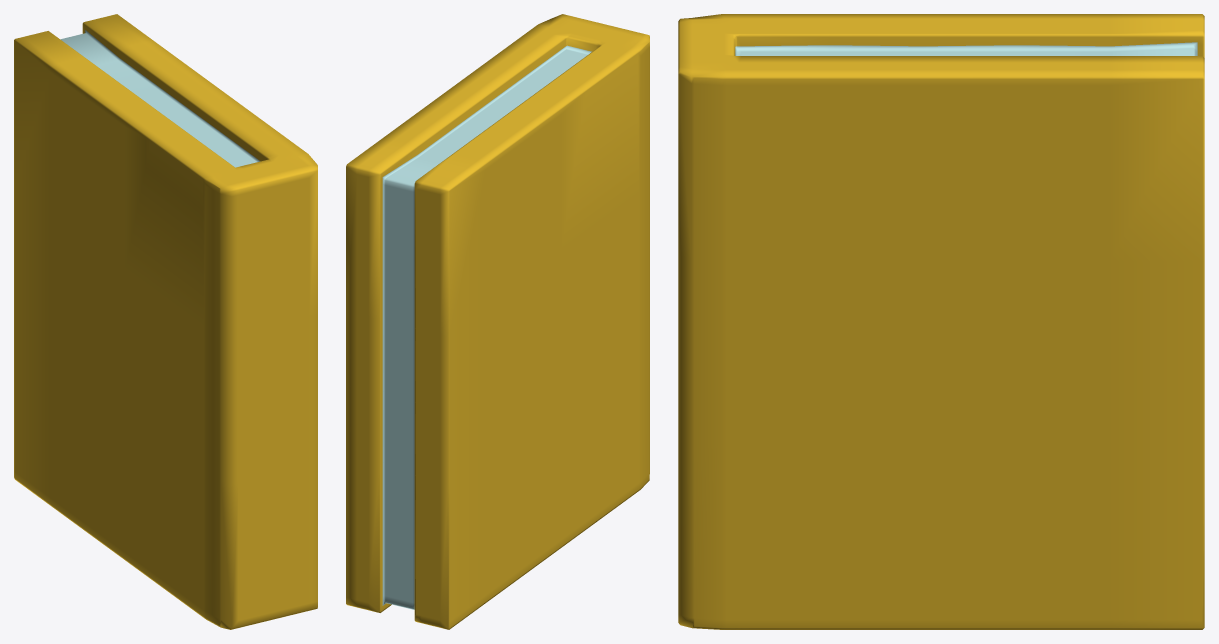
Rendered from SM_Book_Yellow.fbx.
The picture shows the model from 3 angles, left to right: view 1: azimuth 30°, elevation 25°; view 2: azimuth 150°, elevation 25°; view 3: azimuth 270°, elevation 25°; orthographic projection. The views are drawn at different scales.
Visible parts, largest first — view 1: SM_Book_Yellow; view 2: SM_Book_Yellow; view 3: SM_Book_Yellow.
Part boxes in pixels (x1,y1,x2,y2): SM_Book_Yellow: [14, 14, 317, 629]; SM_Book_Yellow: [346, 14, 649, 629]; SM_Book_Yellow: [678, 14, 1204, 629].
Size of the model in its own units: 48.99 by 200 by 173.
